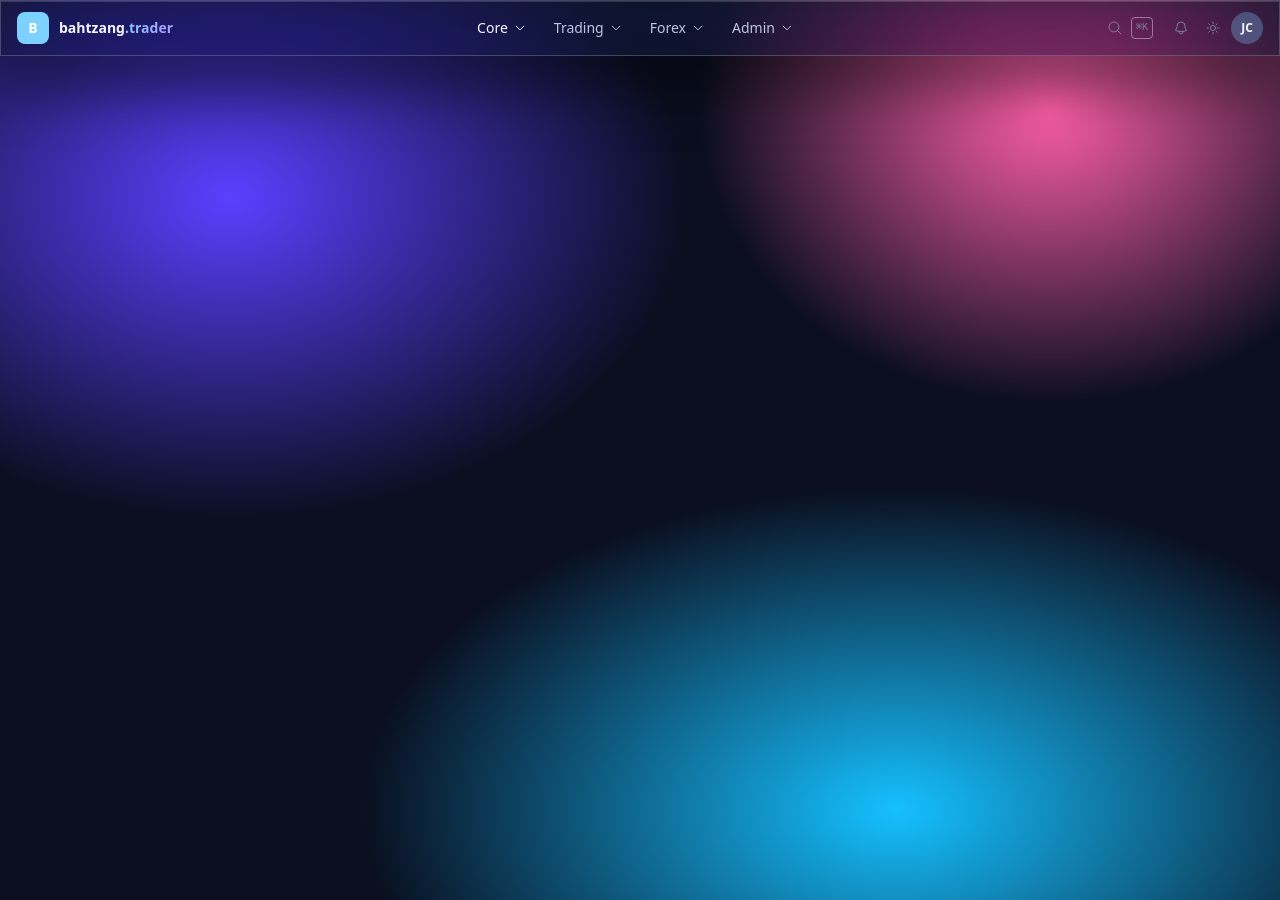
Test case: TopNav › opens the Trading mega-menu on click and shows all 6 items
The width and height of the screenshot is (1280, 900).
Click the button "Trading": {"x": 588, "y": 28} [542,12,634,44]
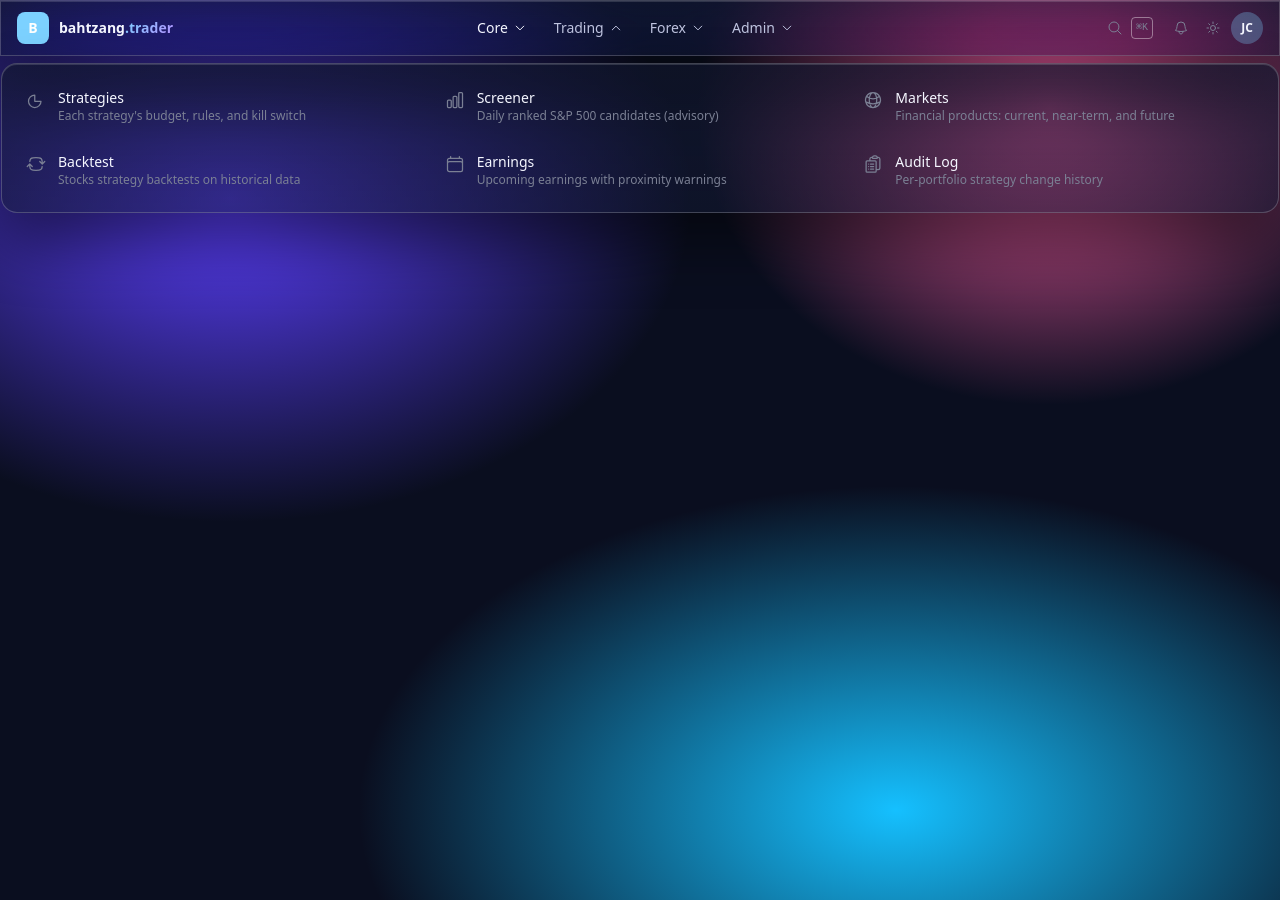
Check: the number of menu items is 6, box [26,88,306,124]; [445,88,719,124]; [863,88,1175,124]; [26,152,300,188]; [445,152,727,188]; [863,152,1103,188]
